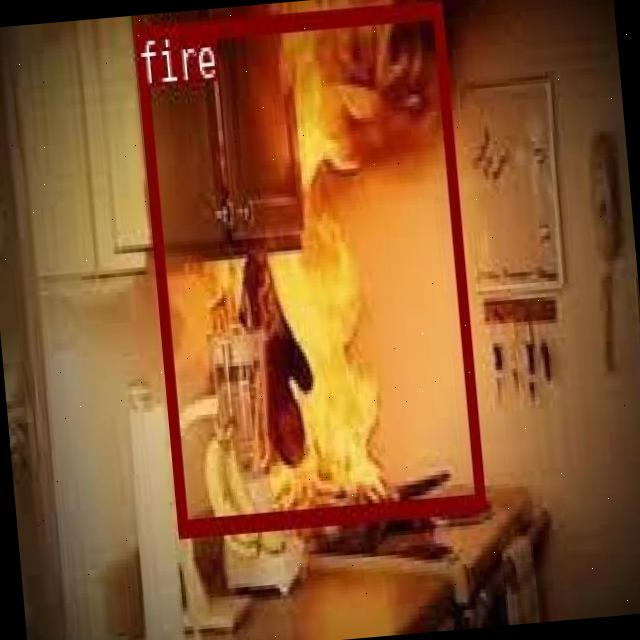fire: (132, 0, 482, 532)
